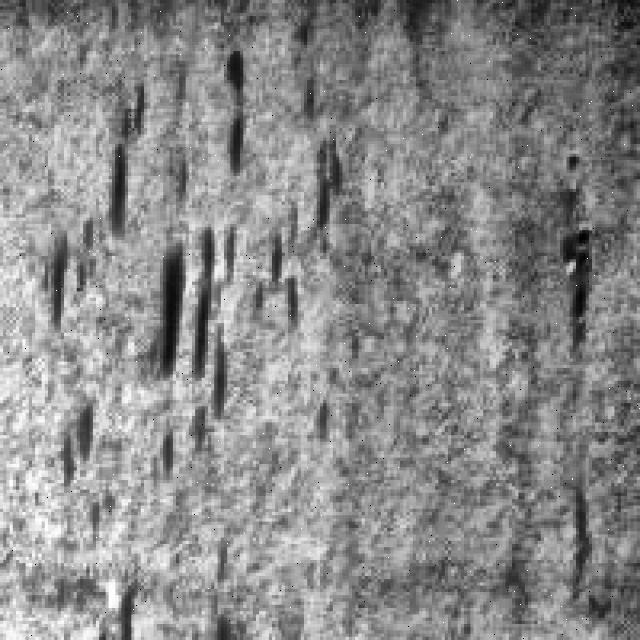Patches: (134, 215, 237, 406), (102, 70, 154, 240), (544, 198, 598, 358), (42, 202, 100, 336), (211, 42, 256, 176), (48, 384, 102, 493)
